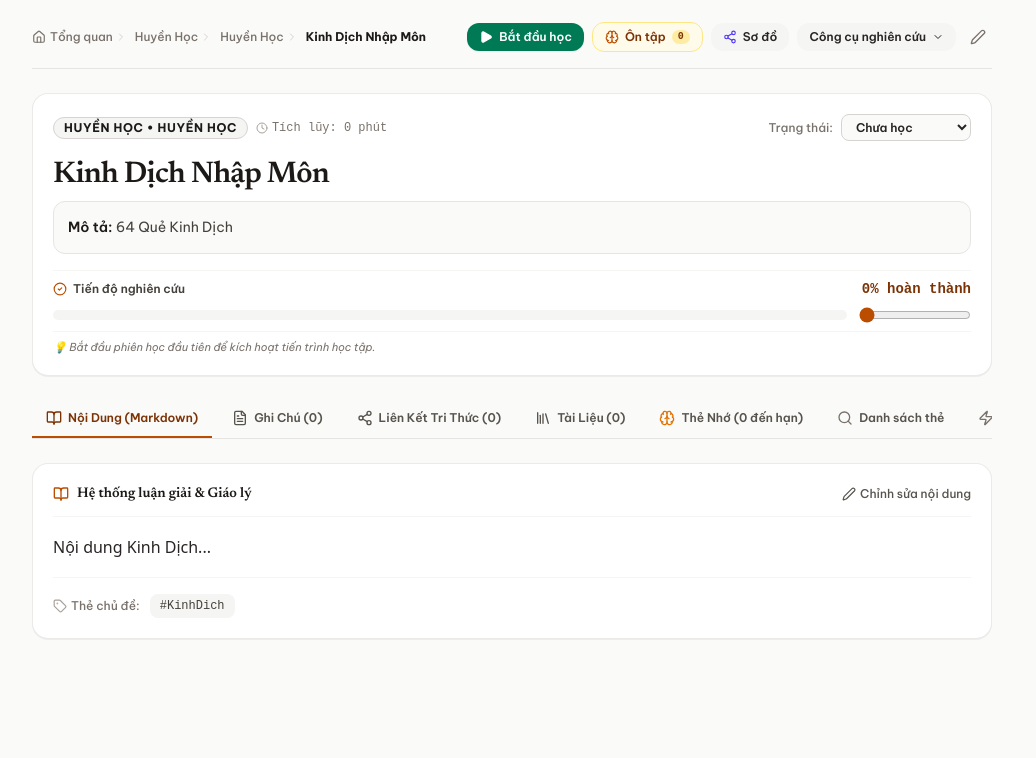
Test: Option A: Topic-scoped Research Notes in TopicDetail › 5. Renders clean empty state when a topic has no linked notes
Click the button with test id "tab-btn-notes".
click(277, 419)  # box [218,400,337,438]
(page scrolled)
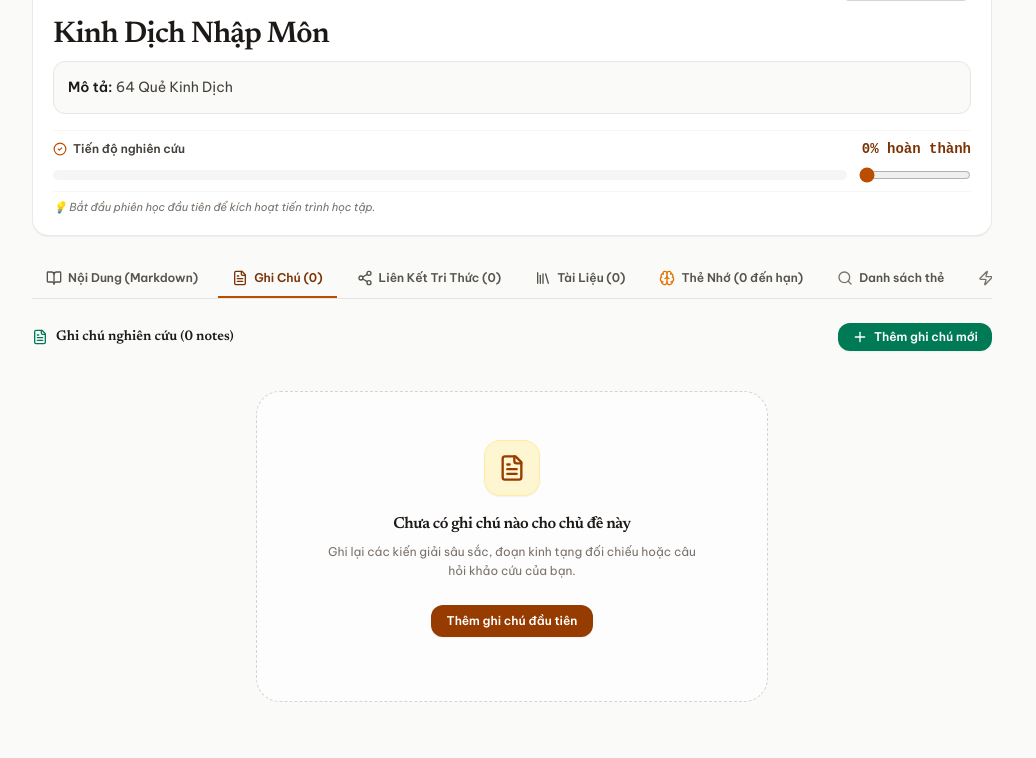
Result: the heading "Chưa có ghi chú nào cho chủ đề này" is shown at [393,512,631,536]
Result: the text "Thêm ghi chú đầu tiên" is shown at [446,613,577,629]
